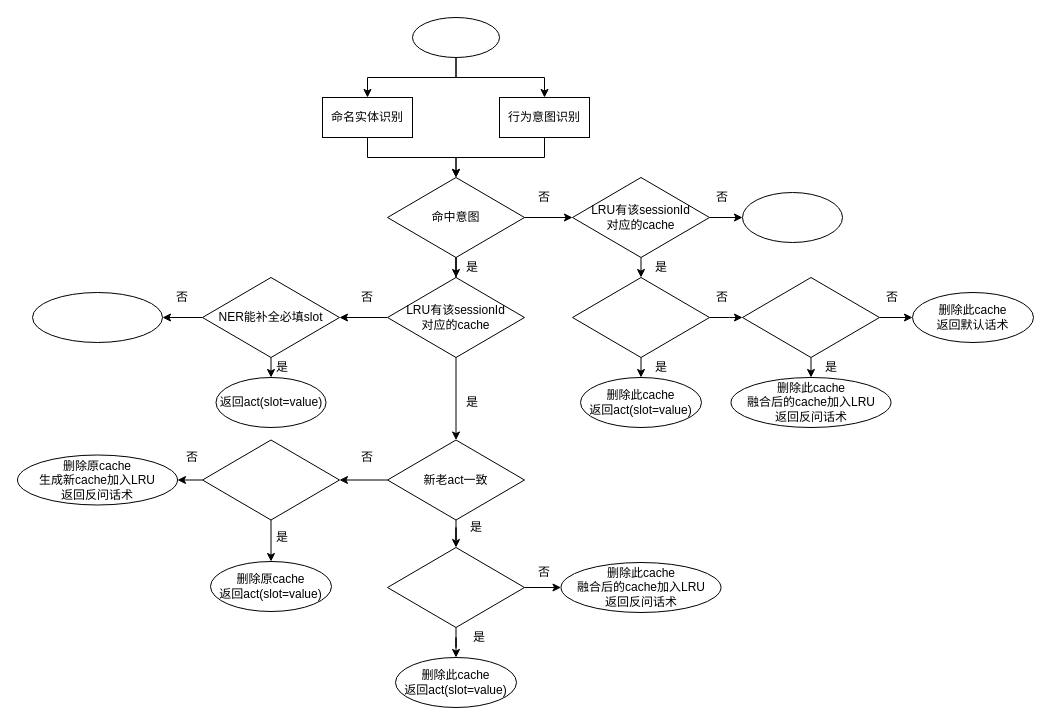
Image size: 1051x725. Some labels were removed from this diagram. Each missing label, with the box of its shape:
NER能补全cache: (572, 276, 710, 358)
新NER能补全必填slot: (202, 439, 340, 520)
新老NER融合后 必填slot可补全: (386, 546, 524, 628)
生成新cache加入LRU 返回反问话术: (32, 292, 162, 342)
用于补全的对话轮数 小于三次: (742, 276, 880, 358)
用户问: (412, 16, 500, 58)
返回默认话术: (742, 192, 842, 242)
